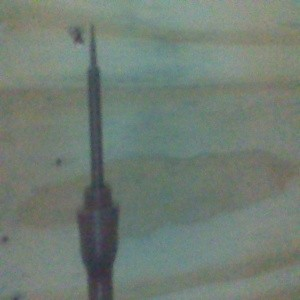solder: (76, 23, 120, 300)
